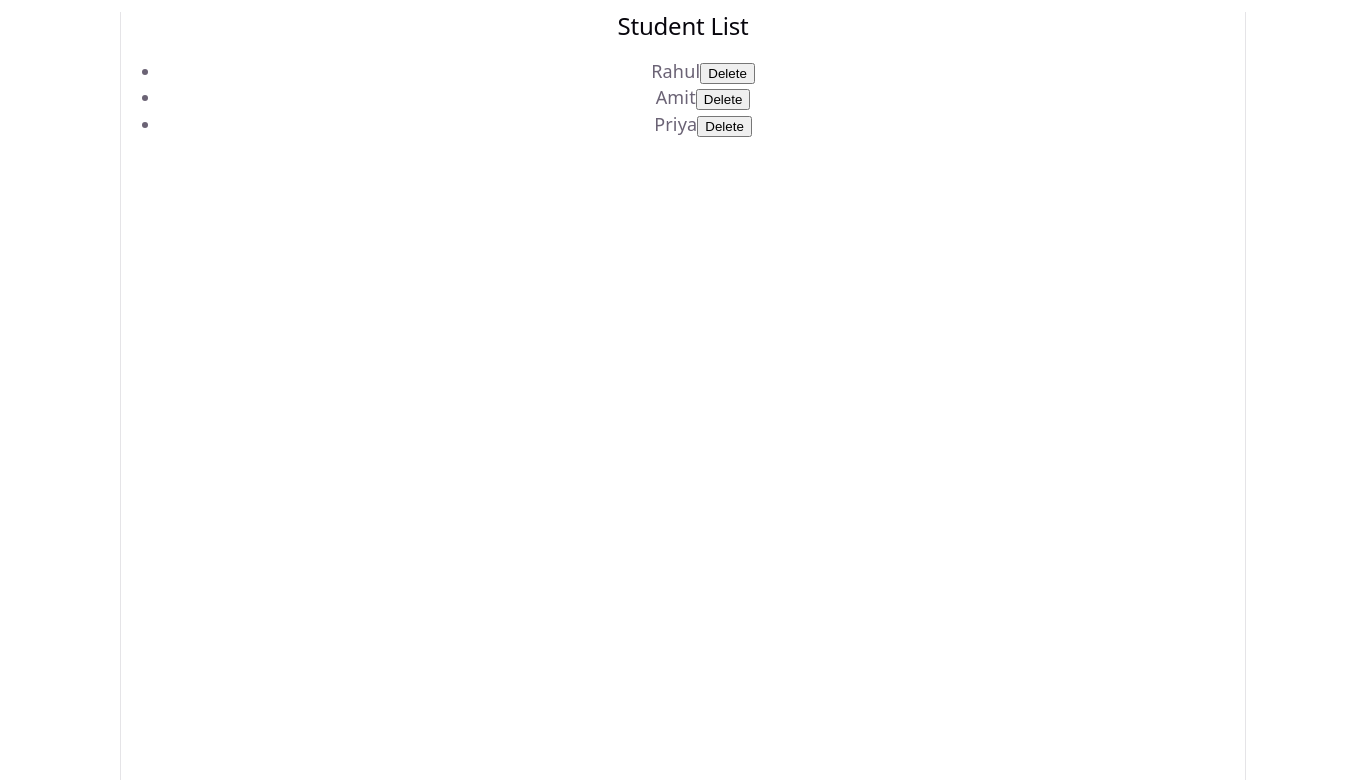
Test: StudentList › keeps the student and shows an error when deletion fails
This screenshot has width=1366, height=780.
Click the button with aria-label "Delete Rahul" at (728, 74), box [700,63,755,84]
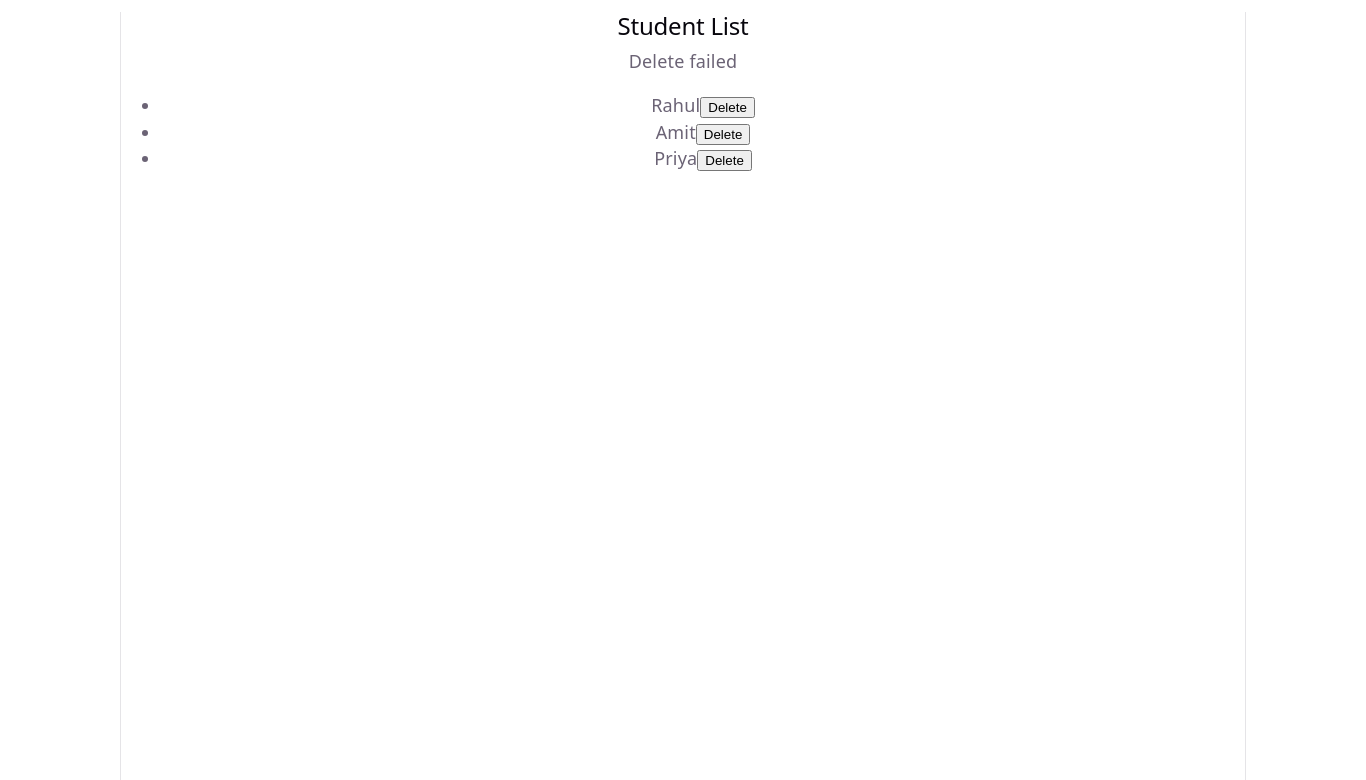
Expected: the list item "Rahul" is shown, [651,93,700,117]
Now the message reads "Delete failed", box [629,49,737,73]
